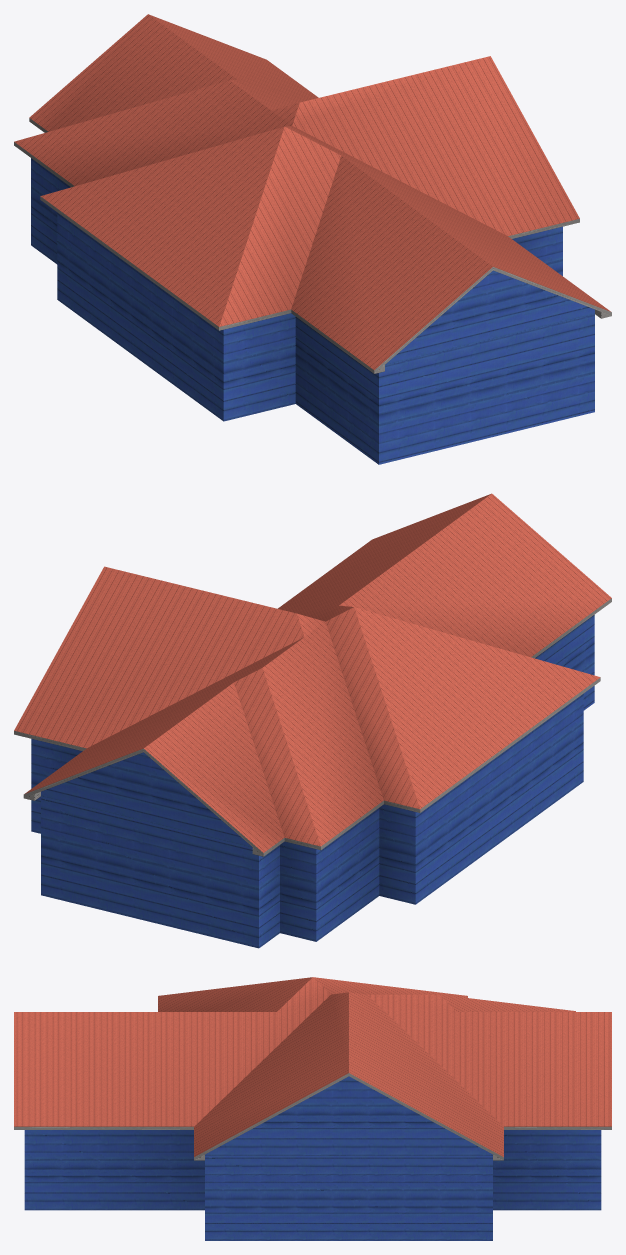
File: House_03.glb
3 views of the same model, one above another, from view 1: azimuth 30°, elevation 25°; view 2: azimuth 150°, elevation 25°; view 3: azimuth 270°, elevation 25° (orthographic). The views are drawn at different scales.
Visible parts, largest first — view 1: Export; view 2: Export; view 3: Export.
Part boxes in pixels (box(x1,y1,x2,y2)): Export: box(14, 14, 611, 464); Export: box(14, 493, 611, 948); Export: box(14, 977, 611, 1240).
Bounding box in the file's own units: 10.6 × 5.28 × 16.6.
3 materials, 3 textured.
